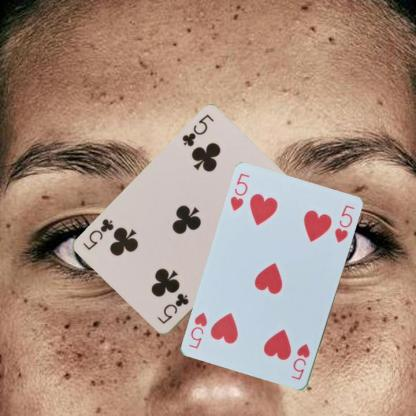5c: (180, 112, 216, 149), (154, 290, 190, 326)
5h: (228, 171, 251, 214), (288, 341, 312, 382)
